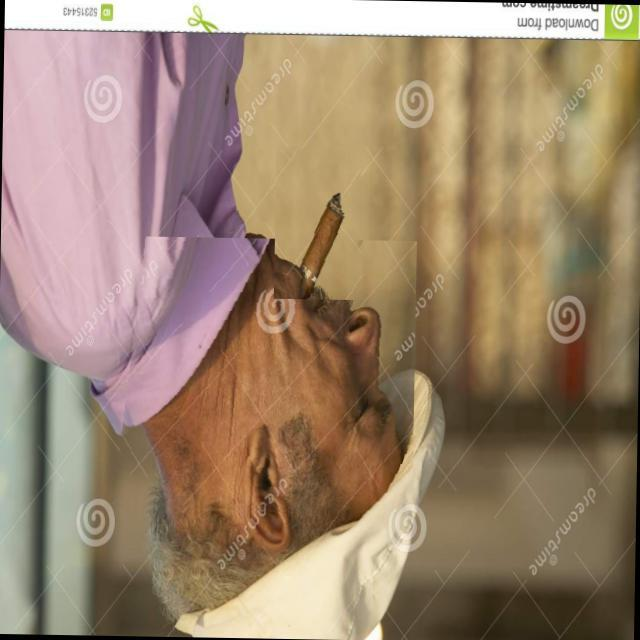cigarette: (274, 146, 366, 300)
